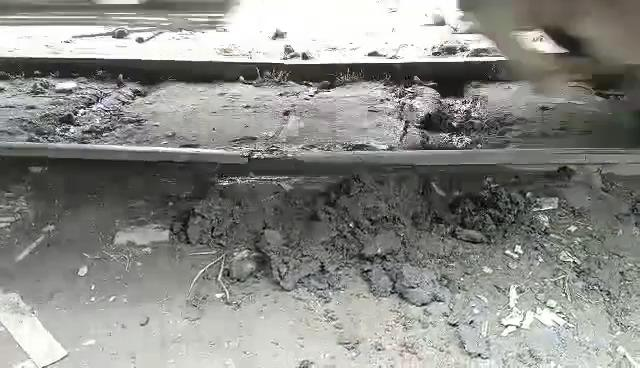railway-gap: (221, 130, 275, 183)
